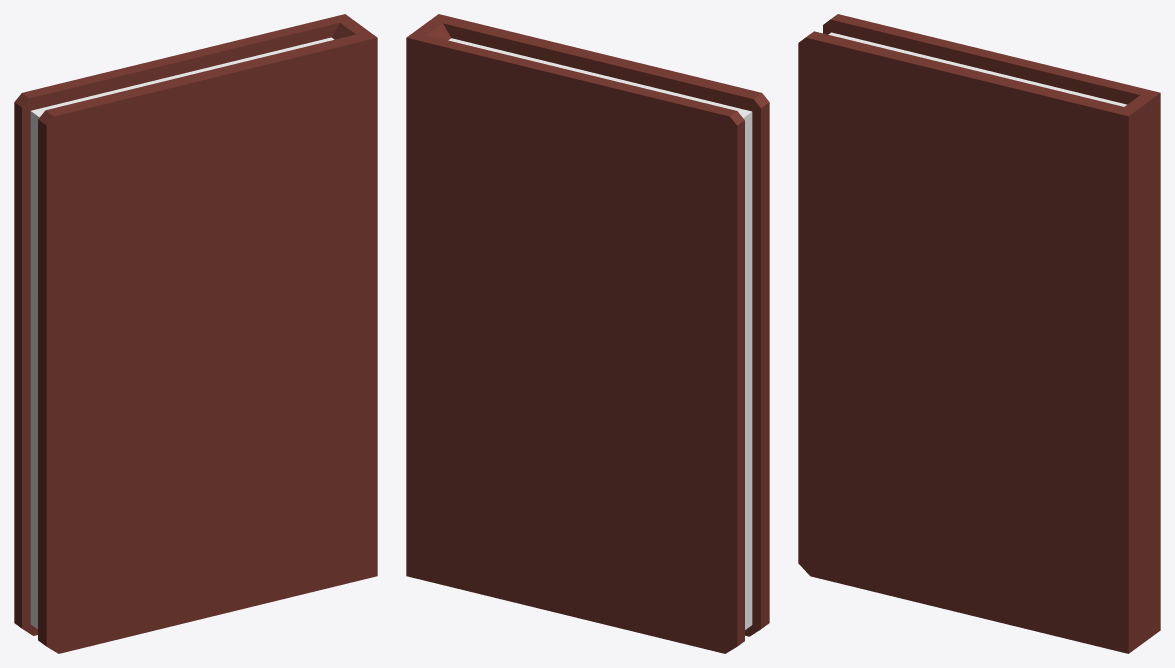
The model's file is book05.gltf.
3 renders of one model, left to right at view 1: azimuth 30°, elevation 25°; view 2: azimuth 150°, elevation 25°; view 3: azimuth 330°, elevation 25°, orthographic.
Visible parts, largest first — view 1: Cube.001; view 2: Cube.001; view 3: Cube.001.
Part boxes in pixels (x1,y1,x2,y2): Cube.001: (14,14,377,653); Cube.001: (406,14,769,653); Cube.001: (798,14,1160,653).
Bounding box in the file's own units: 0.1478 × 0.2299 × 0.025.
1 material, 1 textured.
